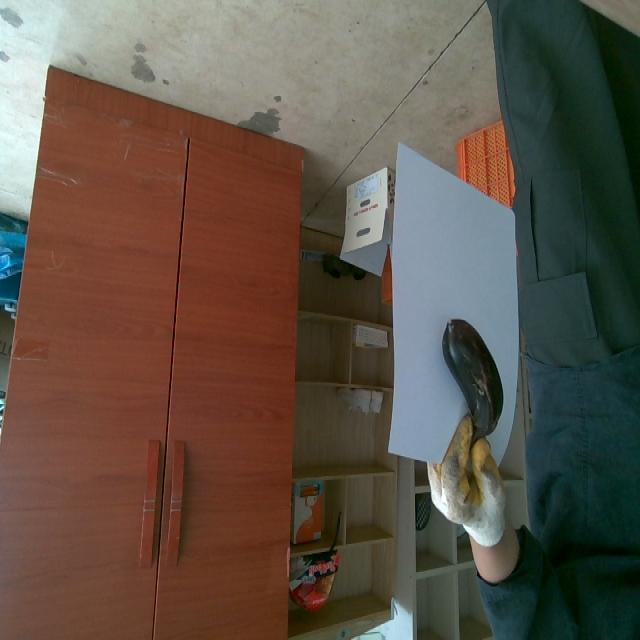Egg plant: (442, 320, 502, 440)
